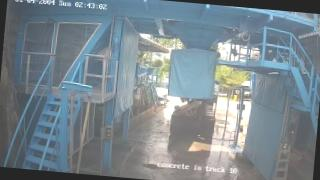cement_mixer_truck: (170, 80, 219, 141)
